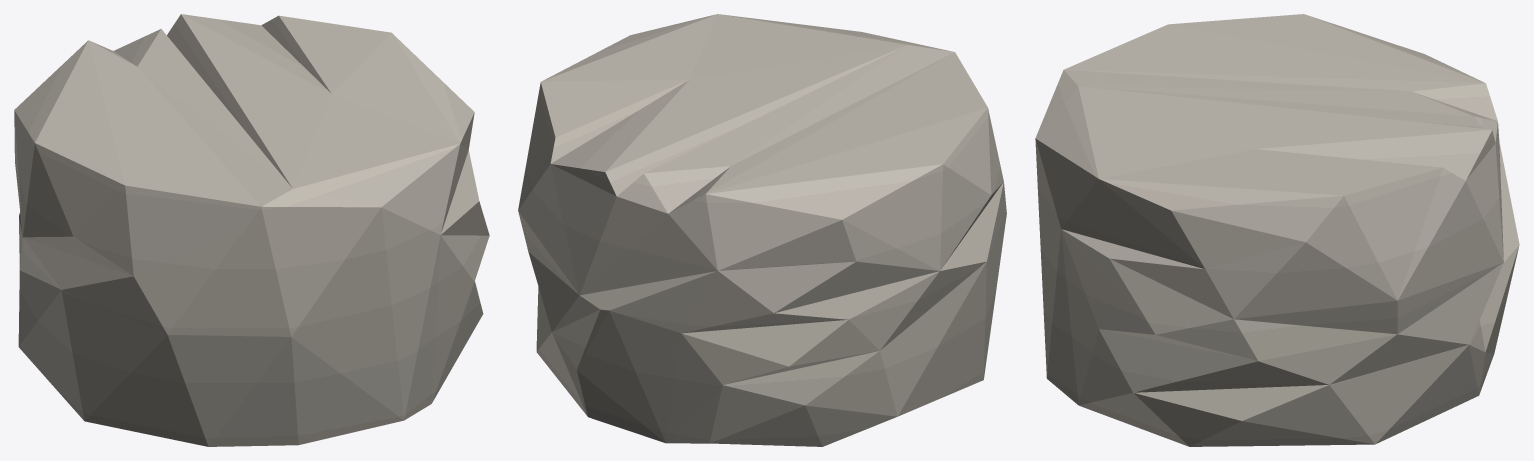
Rendered from YN_CircleStone4.fbx.
3 renders of one model, left to right at view 1: azimuth 30°, elevation 25°; view 2: azimuth 150°, elevation 25°; view 3: azimuth 270°, elevation 25°, orthographic.
Visible parts, largest first — view 1: CircleStone4; view 2: CircleStone4; view 3: CircleStone4.
Boxes of the visible parts, x1=… form: CircleStone4: x1=14, y1=14, x2=489, y2=446; CircleStone4: x1=518, y1=14, x2=1006, y2=446; CircleStone4: x1=1035, y1=14, x2=1519, y2=446.
Bounding box in the file's own units: 1.4 × 0.8355 × 1.43.
